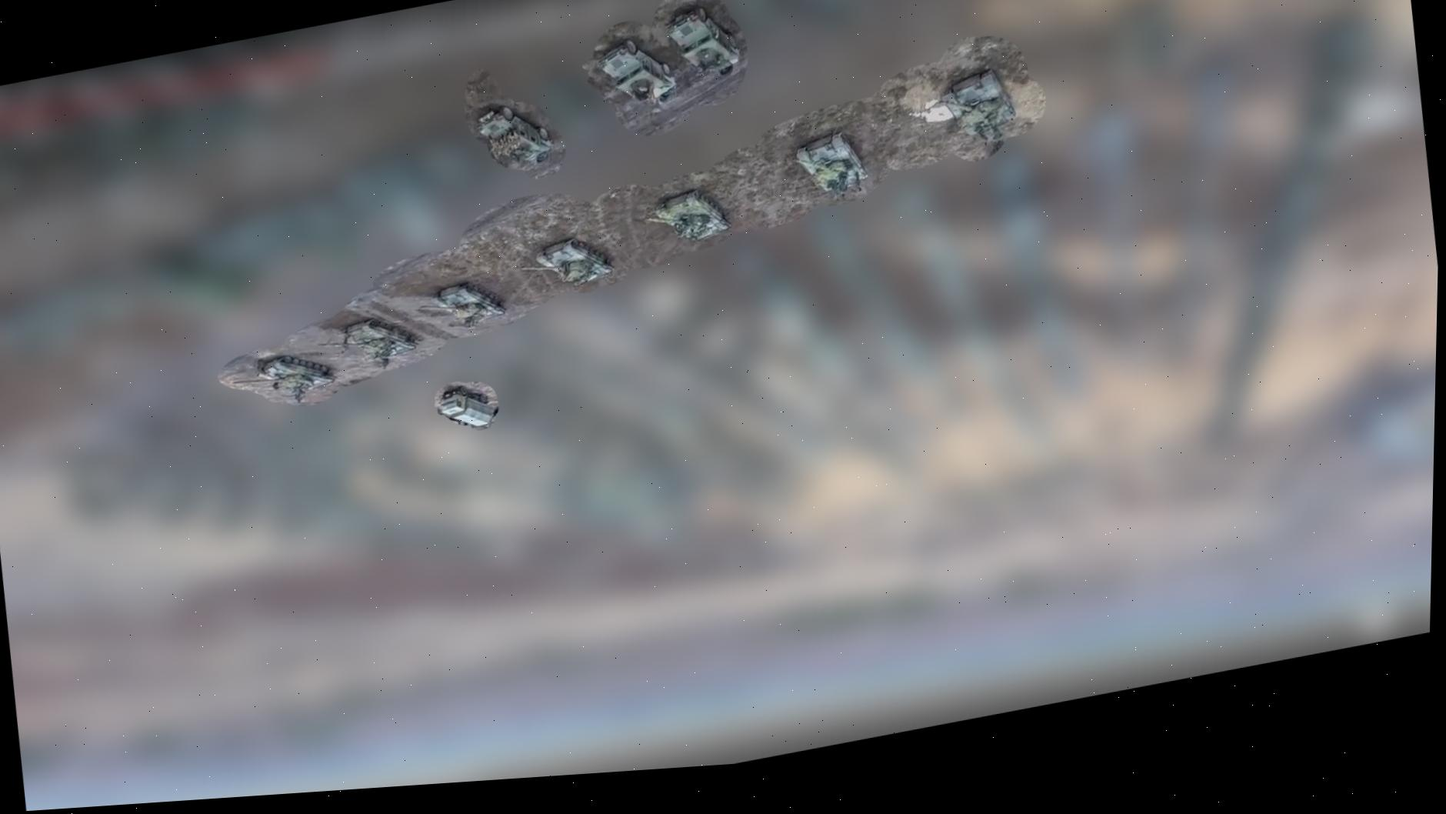armored_car: (593, 29, 679, 113), (662, 0, 744, 88), (474, 98, 557, 178)
tank: (934, 63, 1022, 152), (517, 229, 619, 298), (229, 346, 338, 407), (788, 125, 872, 204), (642, 180, 735, 251), (315, 309, 421, 370), (417, 274, 512, 338)
truck: (436, 379, 497, 435)
